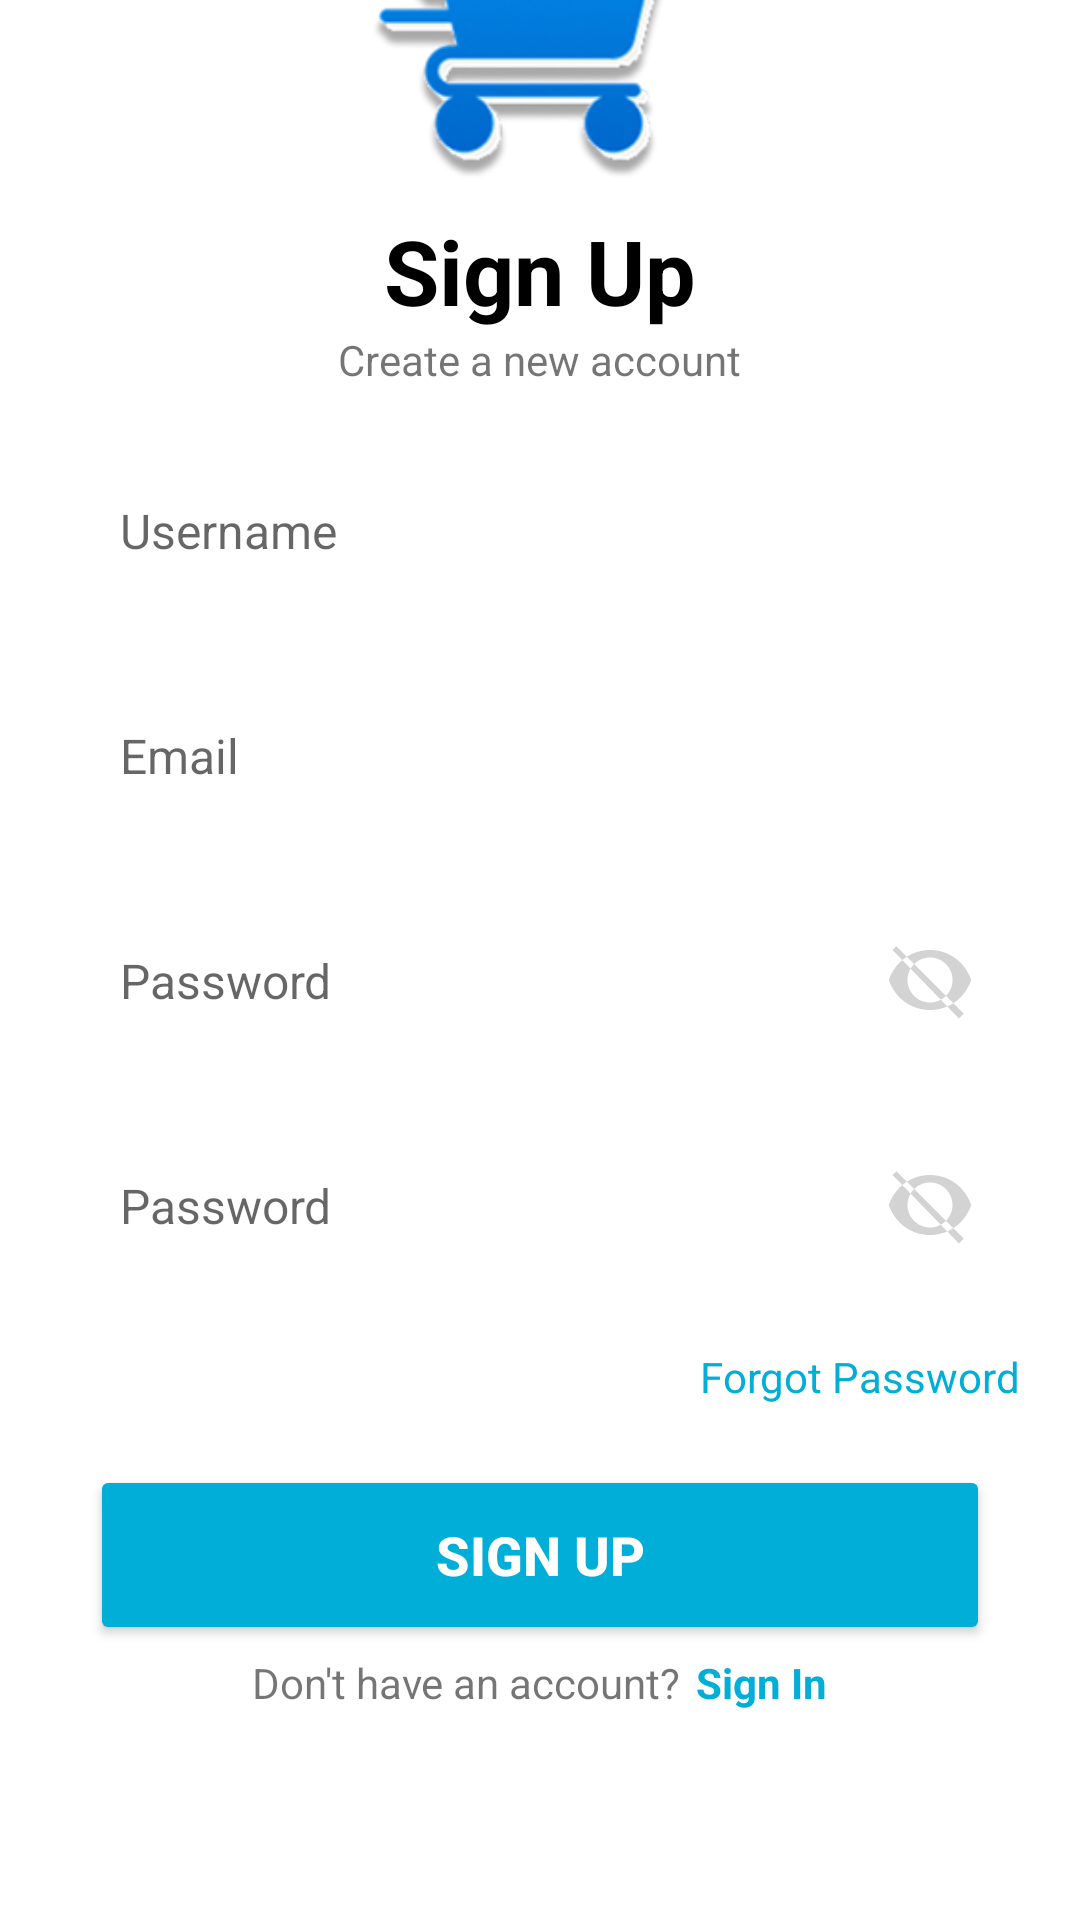

Icons on this 1080px x 1920px Android screen, each with the point to tap as (x=x, y=y):
eye closed: (x=930, y=982), (x=930, y=1207)
